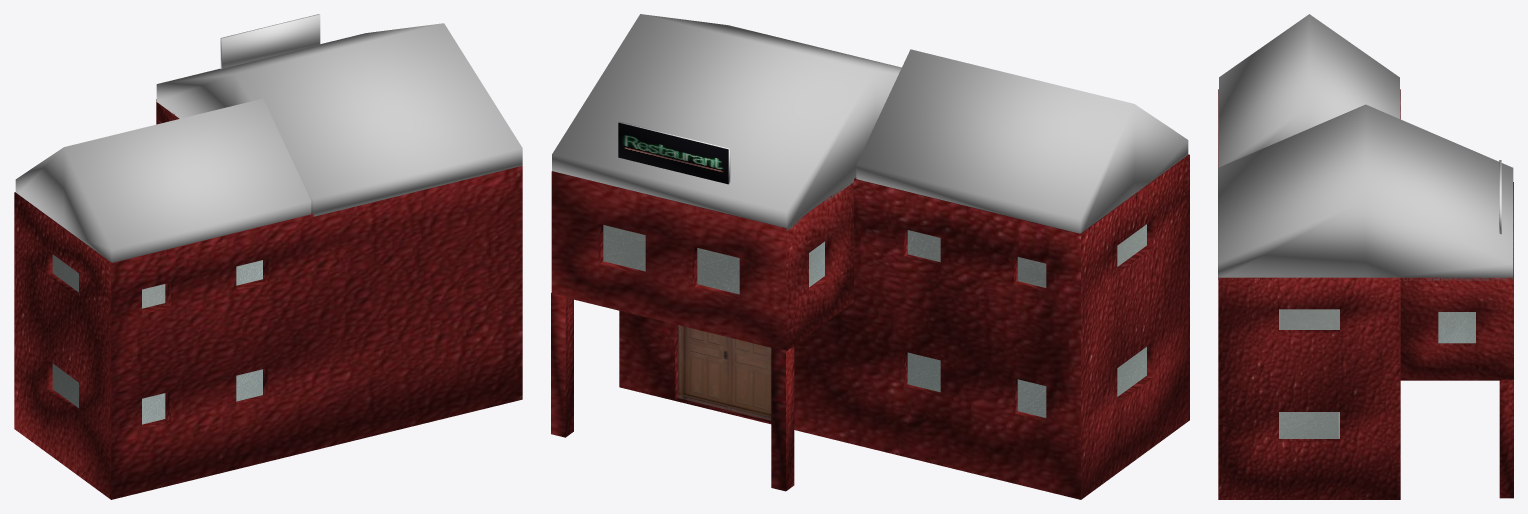
File: Restaurant.fbx
3 renders of one model, left to right at view 1: azimuth 30°, elevation 25°; view 2: azimuth 150°, elevation 25°; view 3: azimuth 270°, elevation 25°, orthographic. The views are drawn at different scales.
Parts seen in each view (by area): view 1: Restaurant, Roof, Roof_001, Windows, RestaurantSign; view 2: Restaurant, Roof, Roof_001, Windows, Door, RestaurantSign; view 3: Restaurant, Roof, Roof_001, Windows.
Part boxes in pixels (x1,y1,x2,y2): Restaurant: (14,99,522,499); Roof: (156,23,522,216); Roof_001: (15,98,311,262); Windows: (52,254,262,424); RestaurantSign: (220,14,320,68); Restaurant: (551,154,1189,499); Roof: (552,14,901,230); Roof_001: (856,49,1188,233); Windows: (603,224,1146,417); Door: (678,325,771,420); RestaurantSign: (618,121,730,184); Restaurant: (1218,89,1513,499); Roof: (1218,104,1513,280); Roof_001: (1219,14,1399,167); Windows: (1279,309,1475,438).
Bounding box in the file's own units: 34.64 × 25.63 × 22.92.
